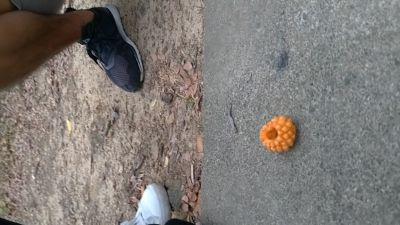eggs: (257, 115, 298, 155)
